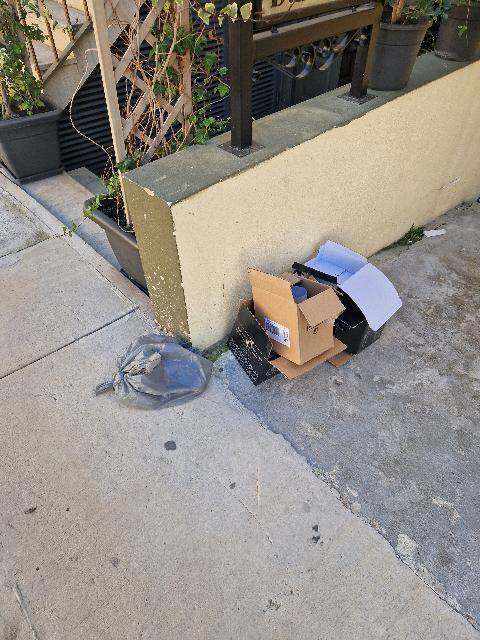Other: (227, 241, 401, 385)
Recyclable -Grey-: (95, 334, 212, 409)
